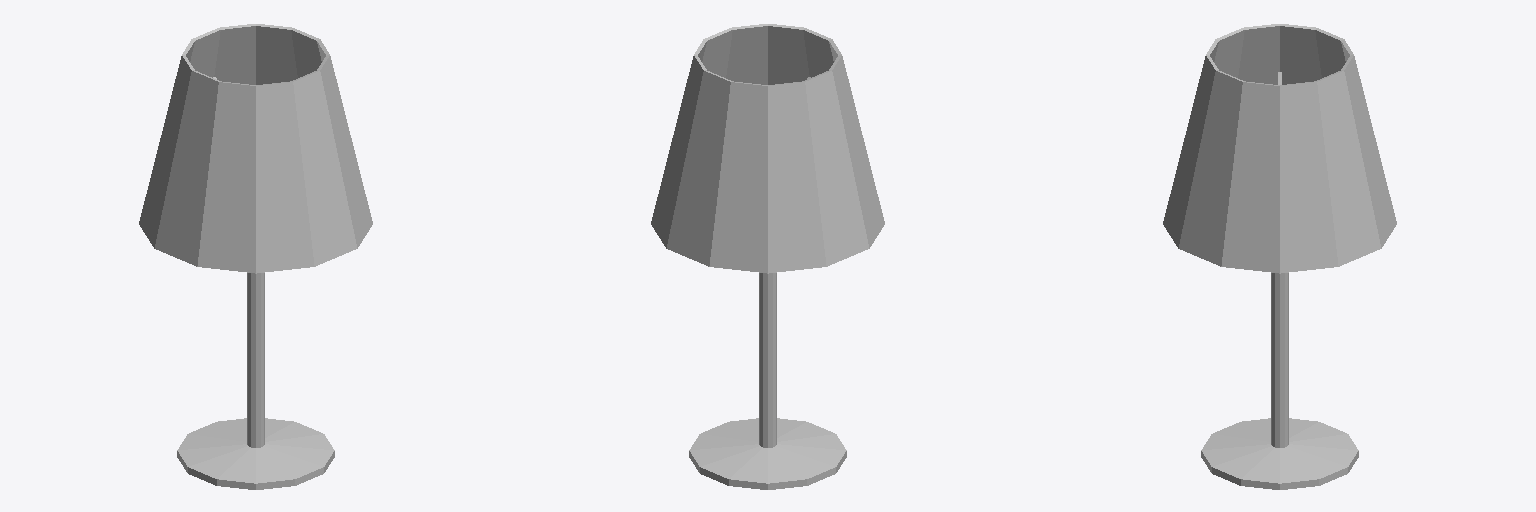
File: lamp4.obj
The picture shows the model from 3 angles: view 1: azimuth 30°, elevation 25°; view 2: azimuth 150°, elevation 25°; view 3: azimuth 270°, elevation 25°; orthographic projection.
Visible parts, largest first — view 1: Lamp; view 2: Lamp; view 3: Lamp.
Part boxes in pixels (bbox=[...]): Lamp: bbox=[139, 24, 372, 489]; Lamp: bbox=[651, 24, 884, 489]; Lamp: bbox=[1163, 24, 1396, 489].
Bounding box in the file's own units: 93.47 × 177 × 93.47.